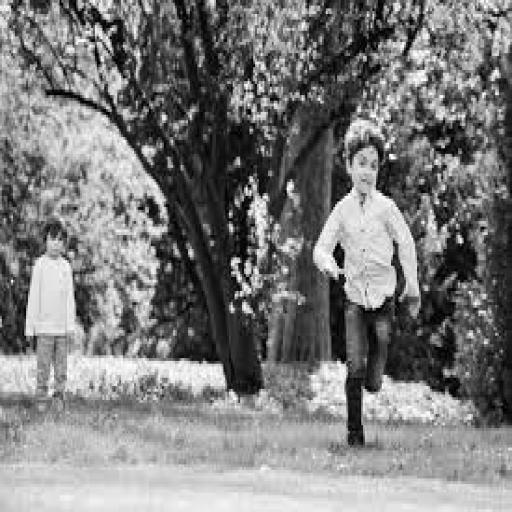running: (309, 115, 425, 450), (22, 212, 80, 408)
